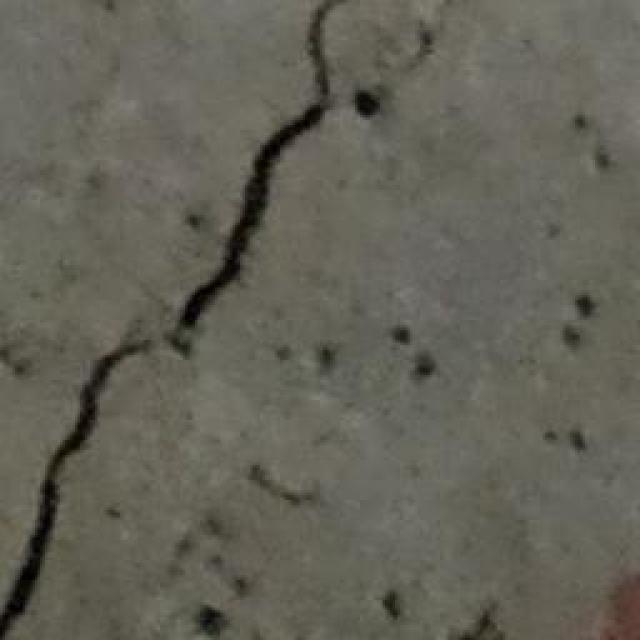Annular: (284, 0, 457, 146)
Diagonal: (0, 138, 281, 640)
